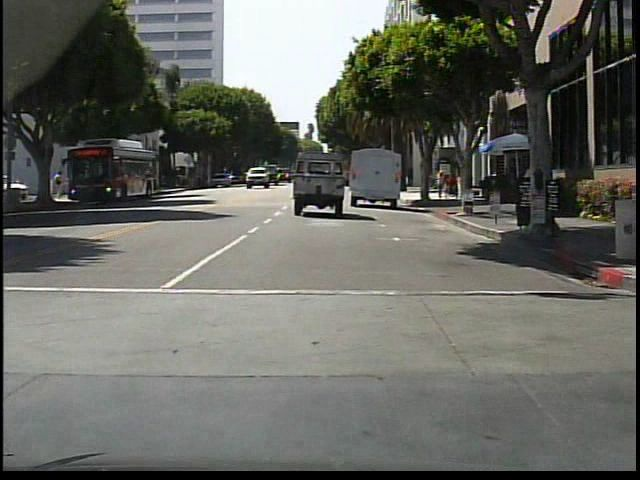person: (426, 167, 435, 201), (435, 170, 445, 199), (55, 171, 64, 199)
